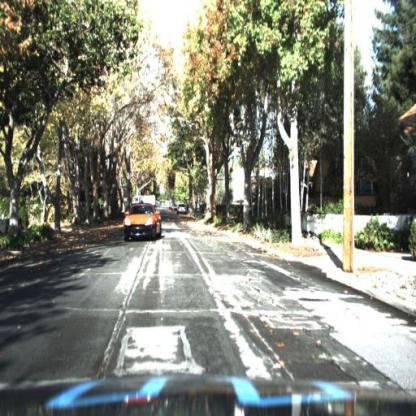car: (121, 200, 165, 242), (176, 202, 190, 218)
